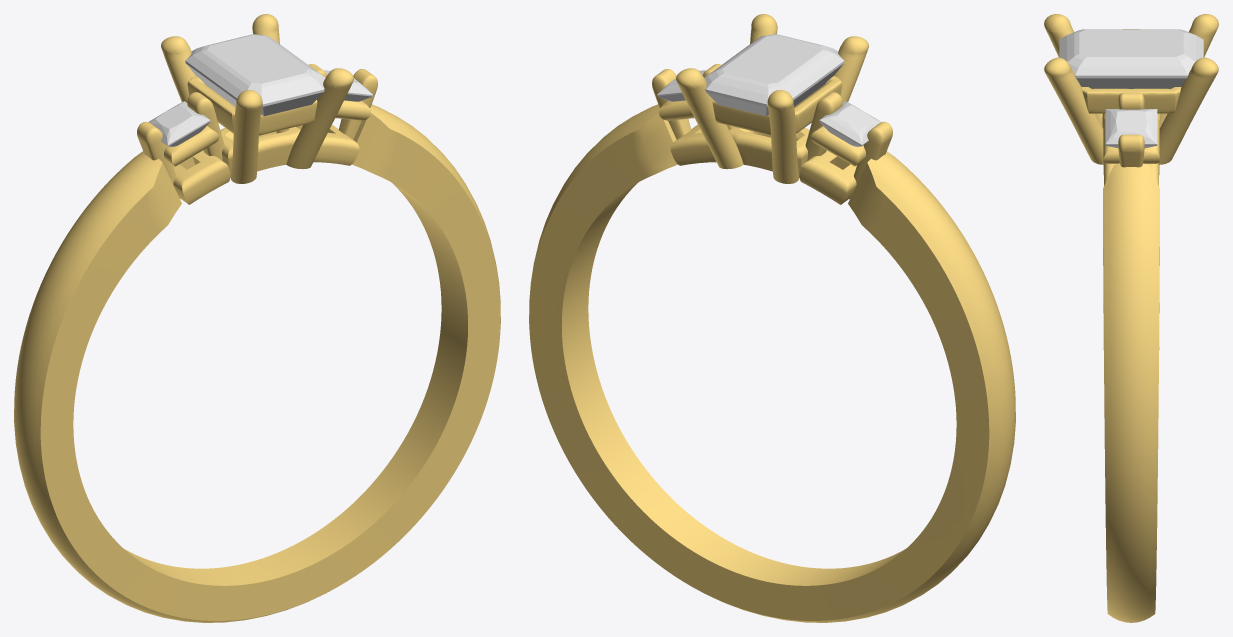
File: Peter_&_Carina_em v2.glb
3 views of the same model, side by side, from view 1: azimuth 30°, elevation 25°; view 2: azimuth 150°, elevation 25°; view 3: azimuth 270°, elevation 25° (orthographic).
Parts seen in each view (by area): view 1: em version 2 YG for 3d model.014, em version 2 dia for 3d model.002, em version 2 YG for 3d model.012, em version 2 YG for 3d model.011, em version 2 YG for 3d model.009, em version 2 YG for 3d model.007, em version 2 YG for 3d model.008, em version 2 dia for 3d model.001, em version 2 YG for 3d model.010, em version 2 YG for 3d model.003, em version 2 YG for 3d model.006, em version 2 YG for 3d model.005 (+2 smaller); view 2: em version 2 YG for 3d model.014, em version 2 dia for 3d model.002, em version 2 YG for 3d model.013, em version 2 YG for 3d model.010, em version 2 YG for 3d model.009, em version 2 YG for 3d model.007, em version 2 YG for 3d model.008, em version 2 dia for 3d model.001, em version 2 YG for 3d model.011, em version 2 YG for 3d model.003, em version 2 YG for 3d model.006, em version 2 YG for 3d model.005 (+2 smaller); view 3: em version 2 YG for 3d model.014, em version 2 dia for 3d model.002, em version 2 YG for 3d model.012, em version 2 YG for 3d model.013, em version 2 YG for 3d model.009, em version 2 dia for 3d model, em version 2 YG for 3d model.001, em version 2 YG for 3d model.010, em version 2 YG for 3d model.011, em version 2 YG for 3d model.002, em version 2 YG for 3d model.
Part boxes in pixels (<box>): em version 2 YG for 3d model.014: <box>14,104,500,622</box>; em version 2 dia for 3d model.002: <box>185,34,325,116</box>; em version 2 YG for 3d model.012: <box>286,68,353,169</box>; em version 2 YG for 3d model.011: <box>231,90,262,183</box>; em version 2 YG for 3d model.009: <box>187,76,317,135</box>; em version 2 YG for 3d model.007: <box>173,150,230,204</box>; em version 2 YG for 3d model.008: <box>220,126,300,177</box>; em version 2 dia for 3d model.001: <box>148,101,210,146</box>; em version 2 YG for 3d model.010: <box>161,36,195,102</box>; em version 2 YG for 3d model.003: <box>313,124,359,165</box>; em version 2 YG for 3d model.006: <box>164,126,219,166</box>; em version 2 YG for 3d model.005: <box>137,121,180,198</box>; em version 2 YG for 3d model.014: <box>529,104,1015,622</box>; em version 2 dia for 3d model.002: <box>704,34,844,116</box>; em version 2 YG for 3d model.013: <box>676,68,743,169</box>; em version 2 YG for 3d model.010: <box>767,90,798,183</box>; em version 2 YG for 3d model.009: <box>712,76,842,135</box>; em version 2 YG for 3d model.007: <box>799,150,856,204</box>; em version 2 YG for 3d model.008: <box>729,126,809,177</box>; em version 2 dia for 3d model.001: <box>819,101,881,146</box>; em version 2 YG for 3d model.011: <box>834,36,868,102</box>; em version 2 YG for 3d model.003: <box>670,124,716,165</box>; em version 2 YG for 3d model.006: <box>810,126,865,166</box>; em version 2 YG for 3d model.005: <box>849,121,892,198</box>; em version 2 YG for 3d model.014: <box>1103,163,1159,622</box>; em version 2 dia for 3d model.002: <box>1059,29,1203,88</box>; em version 2 YG for 3d model.012: <box>1044,57,1103,164</box>; em version 2 YG for 3d model.013: <box>1159,57,1218,164</box>; em version 2 YG for 3d model.009: <box>1081,87,1181,113</box>; em version 2 dia for 3d model: <box>1105,109,1157,148</box>; em version 2 YG for 3d model.001: <box>1118,134,1144,167</box>; em version 2 YG for 3d model.010: <box>1160,14,1218,126</box>; em version 2 YG for 3d model.011: <box>1044,14,1102,126</box>; em version 2 YG for 3d model.002: <box>1103,119,1159,163</box>; em version 2 YG for 3d model: <box>1118,92,1144,109</box>.
Size of the model in its own units: 21.13 by 23.81 by 6.74.
